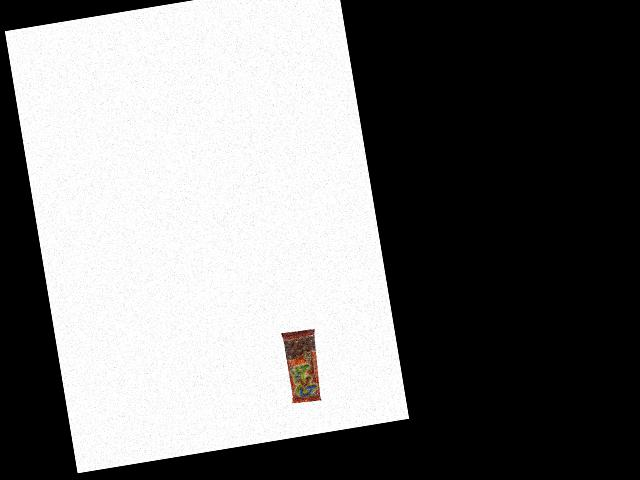chocolate: (281, 328, 324, 405)
